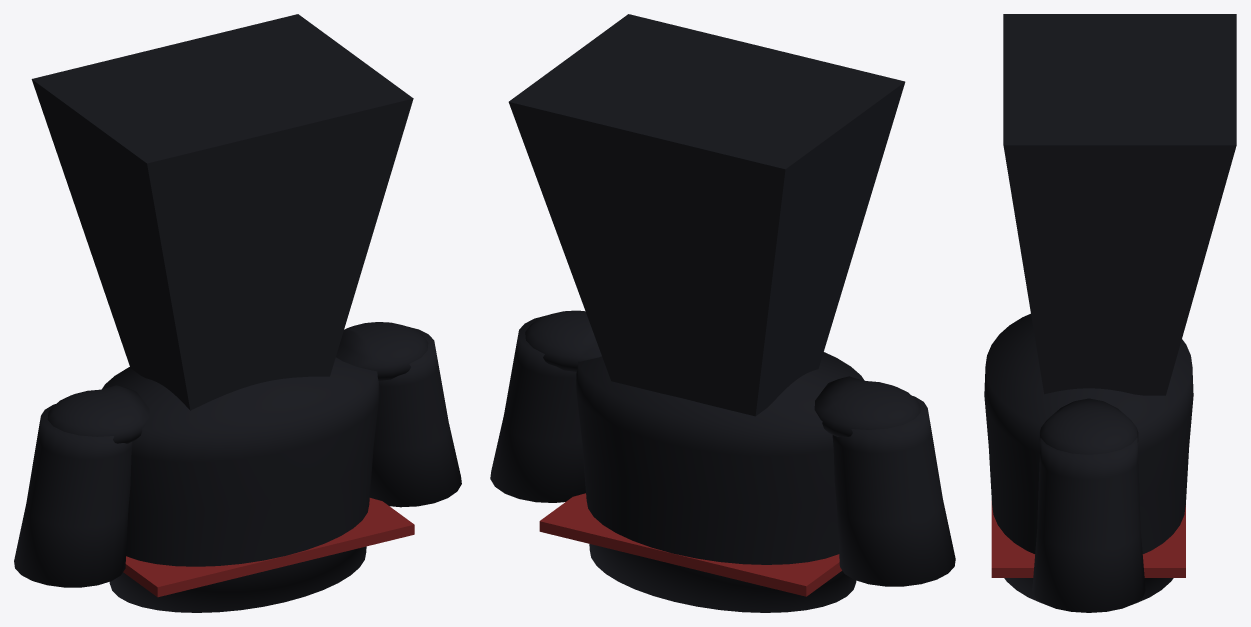
Rendered from top_ancient_2.glb.
3 renders of one model, left to right at view 1: azimuth 30°, elevation 25°; view 2: azimuth 150°, elevation 25°; view 3: azimuth 270°, elevation 25°, orthographic. The views are drawn at different scales.
Bounding box in the file's own units: 0.6992 × 0.7212 × 0.349.
